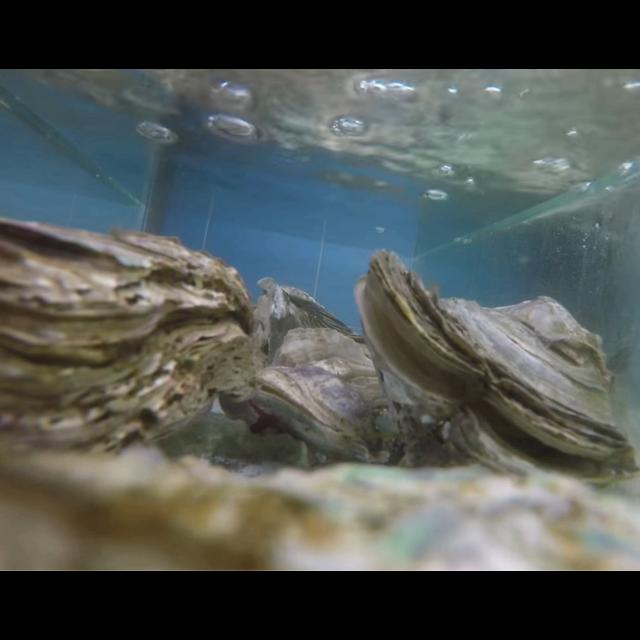Oyster-Closed: (0, 444, 640, 572), (1, 216, 258, 482), (254, 278, 370, 369)
Oyster-Open: (354, 250, 640, 494), (253, 327, 405, 465)
